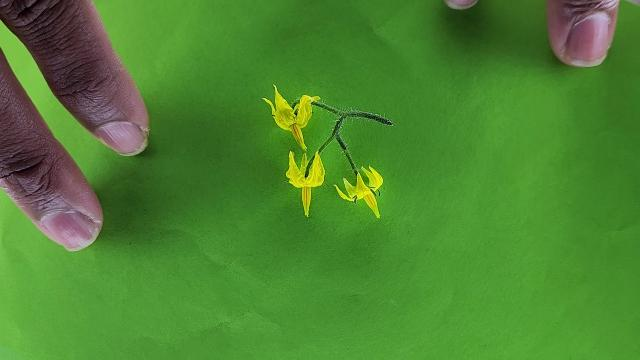Anthesis: (262, 83, 320, 153), (285, 147, 327, 217), (333, 164, 384, 219)
